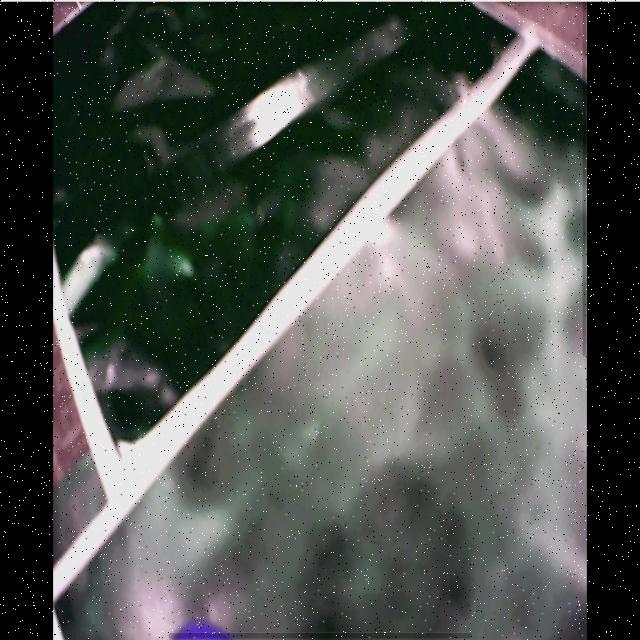ball: (170, 618, 228, 640)
